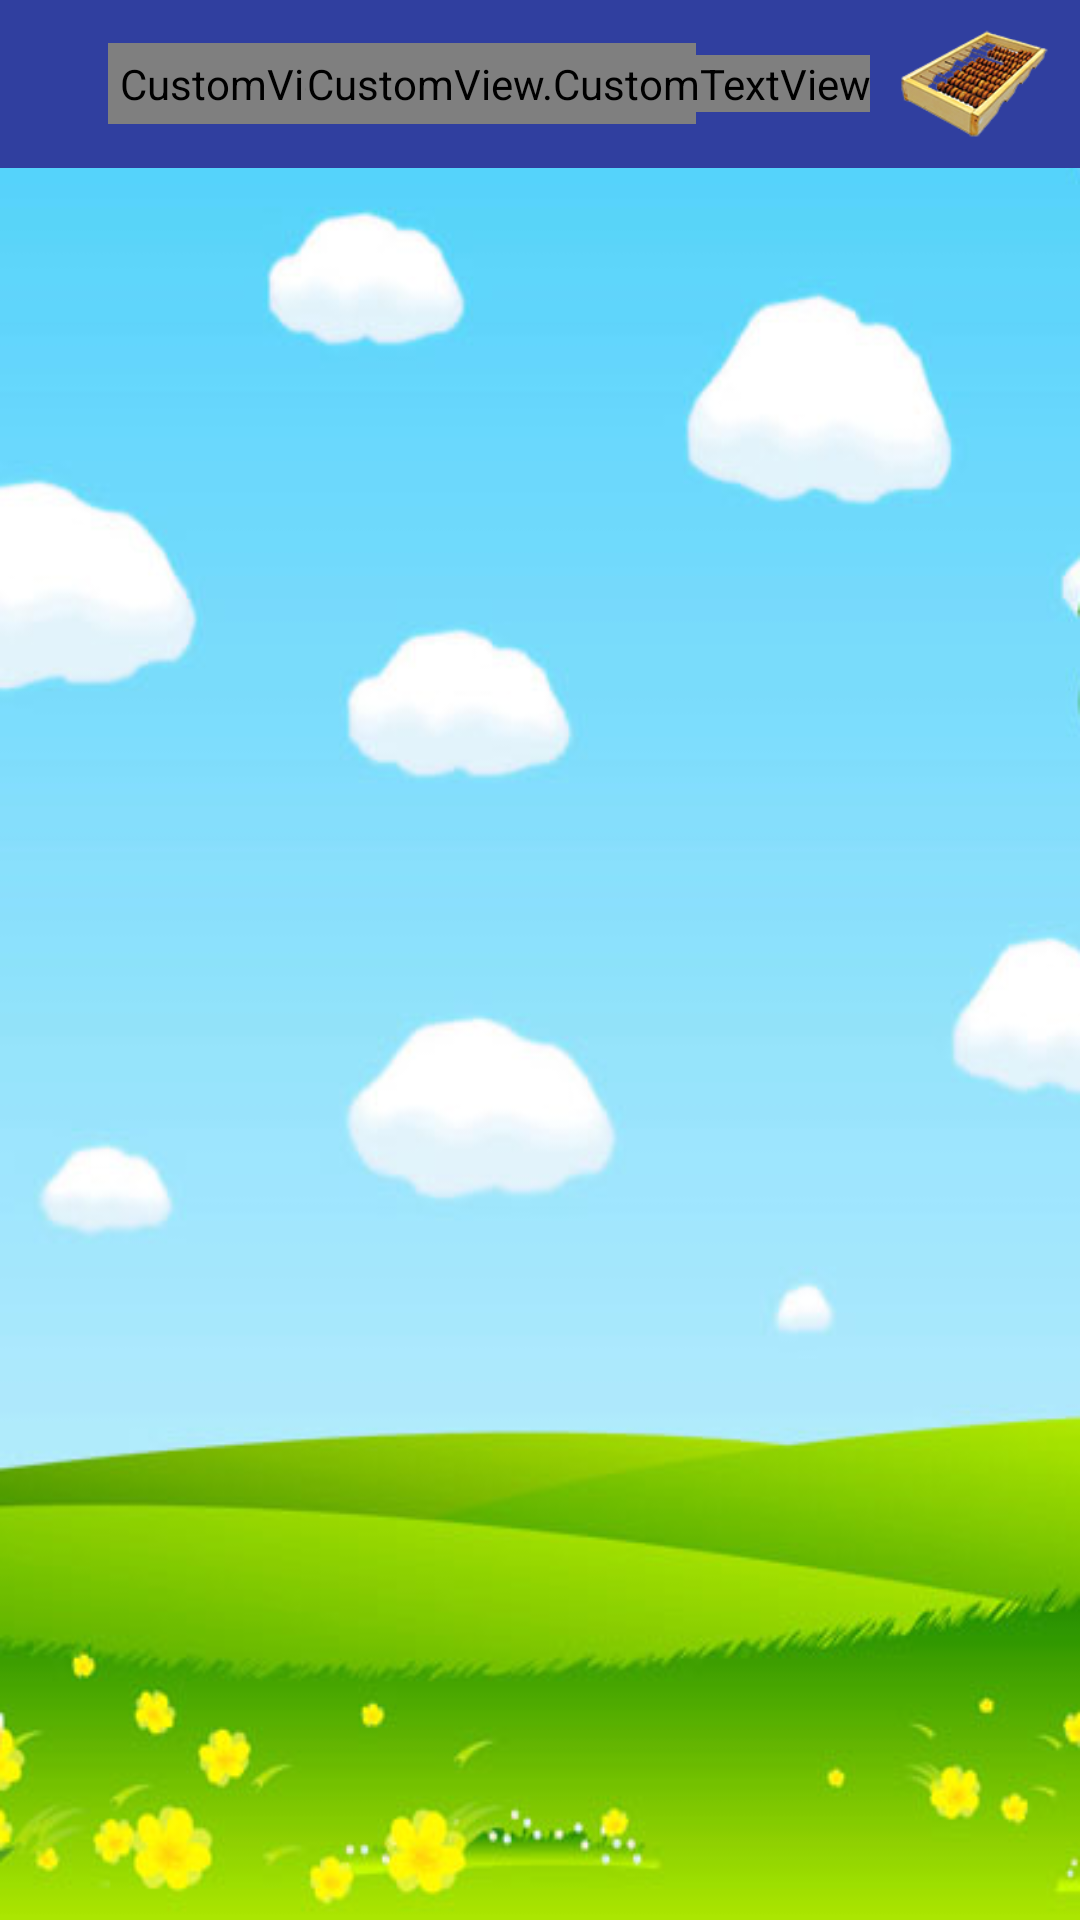

Named icons in this screenshot (1080x1920) and their bounding boxes, (x1, y1, x2, y2):
chortkeh: (901, 31, 1048, 137)
